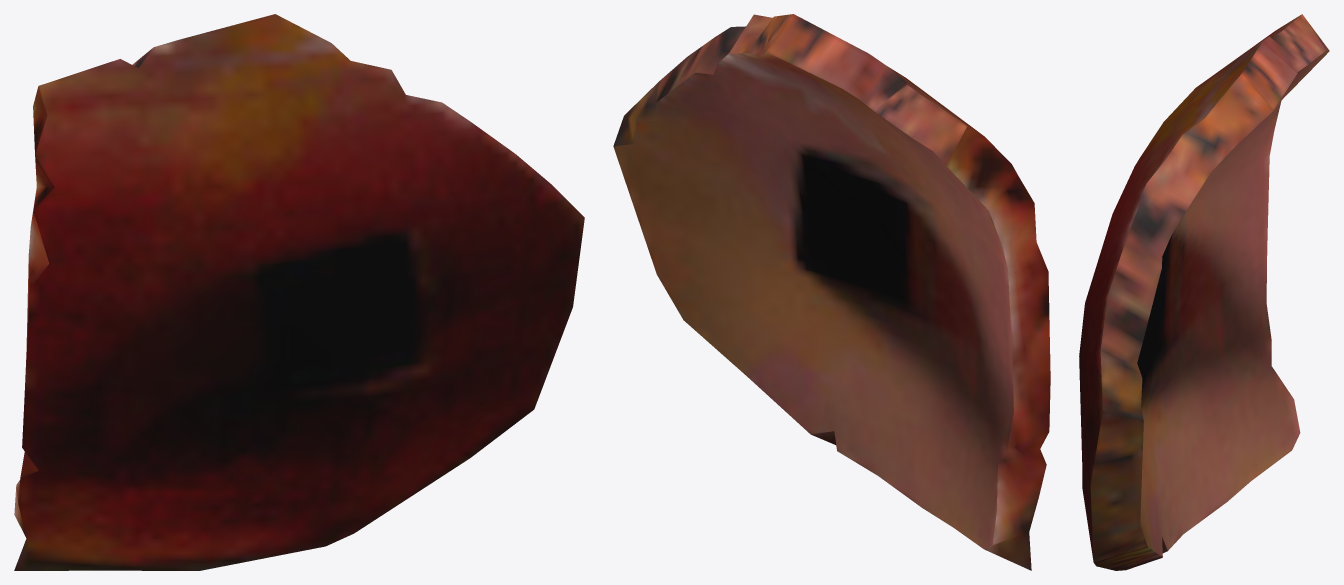
File: Ceramic010.gltf
The picture shows the model from 3 angles, left to right: view 1: azimuth 30°, elevation 25°; view 2: azimuth 150°, elevation 25°; view 3: azimuth 270°, elevation 25°; orthographic projection. The views are drawn at different scales.
Visible parts, largest first — view 1: Ceramic010_002, Ceramic010_003, Ceramic010, Ceramic010_005, Ceramic010_001, Ceramic010_004; view 2: Ceramic010_003, Ceramic010, Ceramic010_002, Ceramic010_005, Ceramic010_001, Ceramic010_004; view 3: Ceramic010, Ceramic010_003, Ceramic010_002, Ceramic010_004, Ceramic010_005, Ceramic010_001.
Boxes of the visible parts, x1,y1,x2,y2 form: Ceramic010_002: (32, 14, 349, 305); Ceramic010_003: (328, 162, 584, 535); Ceramic010: (14, 281, 256, 570); Ceramic010_005: (192, 250, 350, 570); Ceramic010_001: (24, 213, 218, 402); Ceramic010_004: (334, 55, 525, 227); Ceramic010_003: (613, 64, 851, 440); Ceramic010: (906, 216, 1050, 570); Ceramic010_002: (762, 14, 1034, 229); Ceramic010_005: (821, 164, 918, 502); Ceramic010_001: (928, 211, 1050, 385); Ceramic010_004: (677, 14, 840, 145); Ceramic010: (1167, 226, 1300, 506); Ceramic010_003: (1079, 264, 1162, 570); Ceramic010_002: (1116, 14, 1329, 263); Ceramic010_004: (1095, 129, 1235, 312); Ceramic010_005: (1119, 254, 1220, 570); Ceramic010_001: (1182, 118, 1277, 267).
Bounding box in the file's own units: 0.098 × 0.0945 × 0.0417.
1 material, 1 textured.
